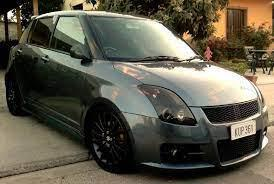Hatchback: (4, 8, 270, 173)
